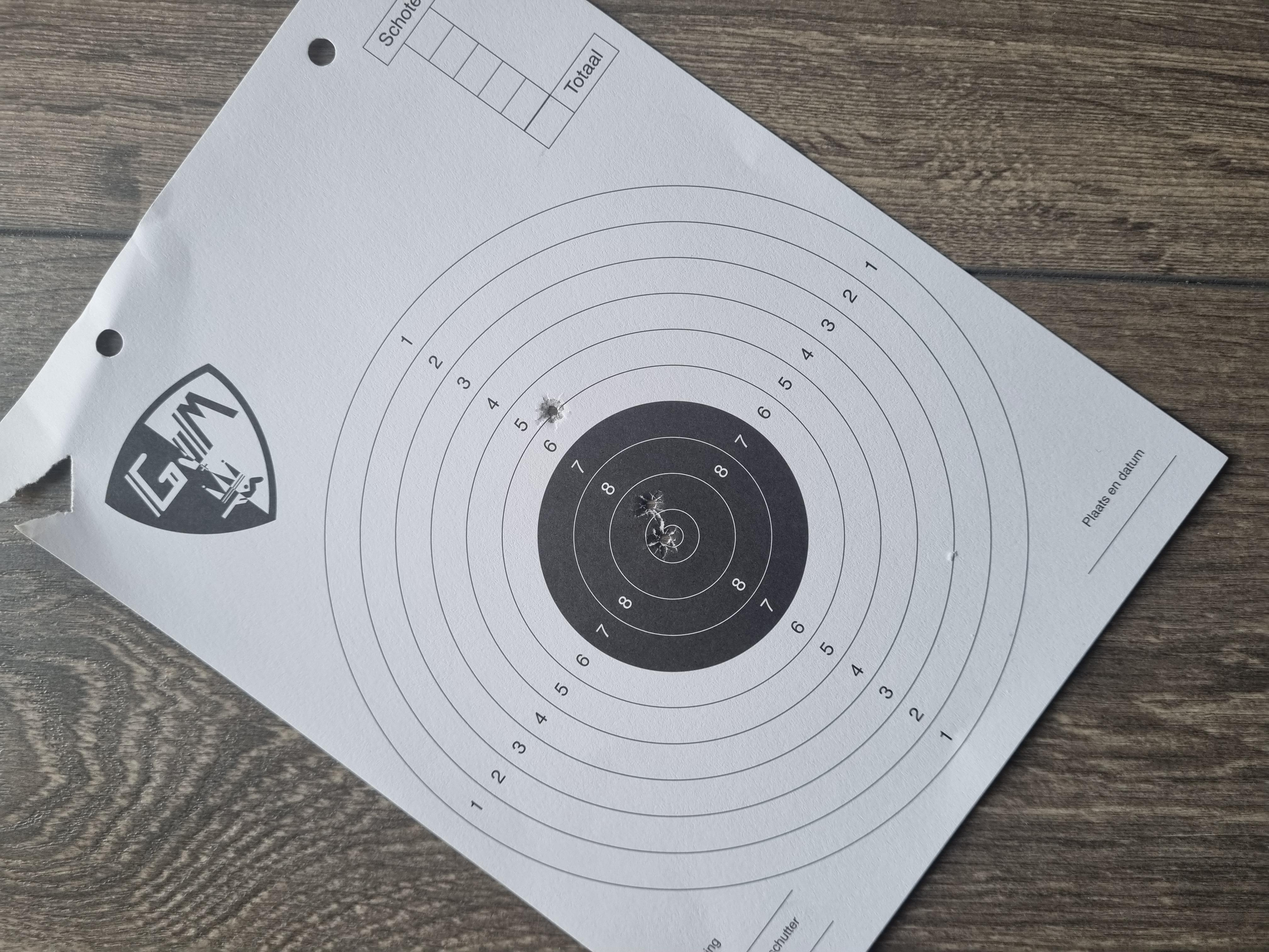hole: (524, 482, 585, 515), (698, 399, 748, 430), (574, 476, 622, 504)
